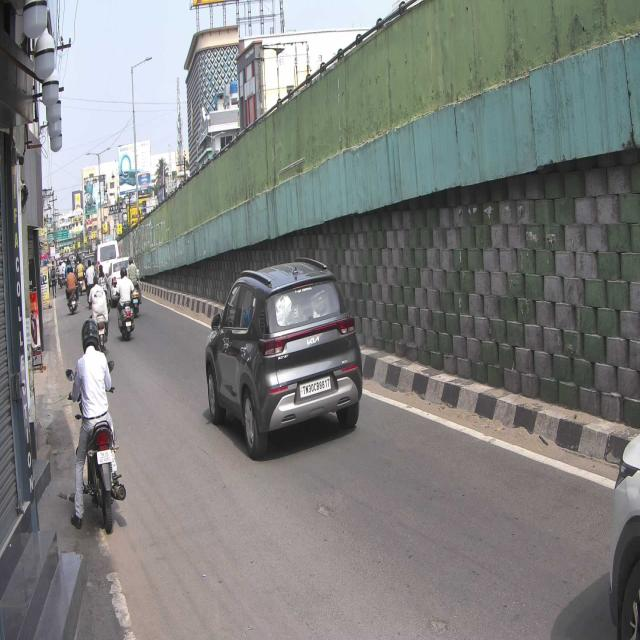single_rider: (66, 317, 128, 535)
